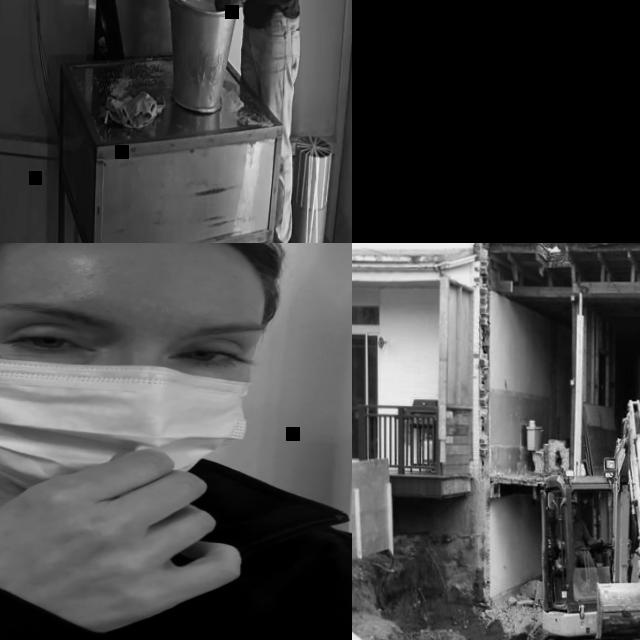Mask: (0, 309, 261, 492)
NO-Hardhat: (0, 243, 277, 277), (568, 493, 579, 503)
NO-Mask: (572, 512, 576, 519)
NO-Safety Vest: (0, 501, 352, 640), (559, 517, 586, 548)
Person: (0, 243, 352, 640), (175, 0, 315, 243), (556, 493, 607, 588)
machinery: (476, 399, 640, 640)
